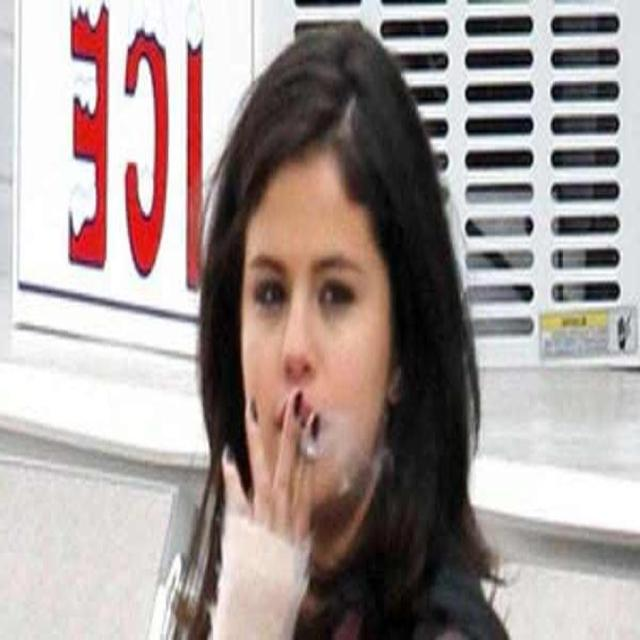smoking: (212, 12, 430, 599)
